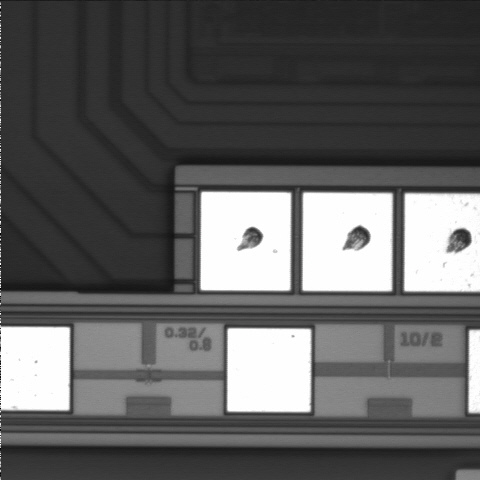pad: (201, 192, 291, 291), (303, 193, 392, 291), (227, 328, 311, 412)
